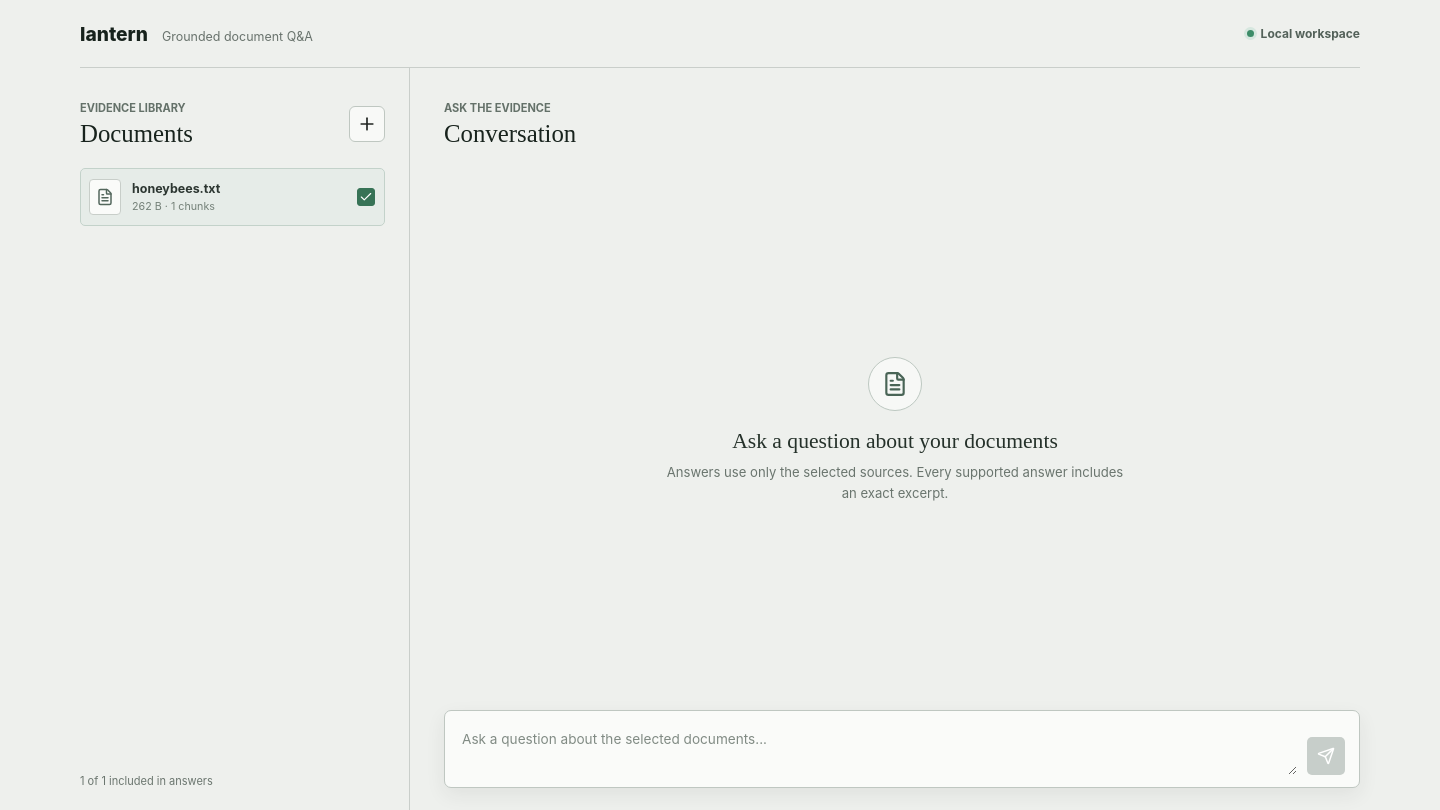
Test: grounded conversation › reveals the exact source excerpt when a citation is expanded
Expected: the text "honeybees.txt" is shown, [132,181,220,196]
Step 1. Type "How do bees communicate distance?" into the text box labelled "question" → (877, 750), box [457,724,1297,775]
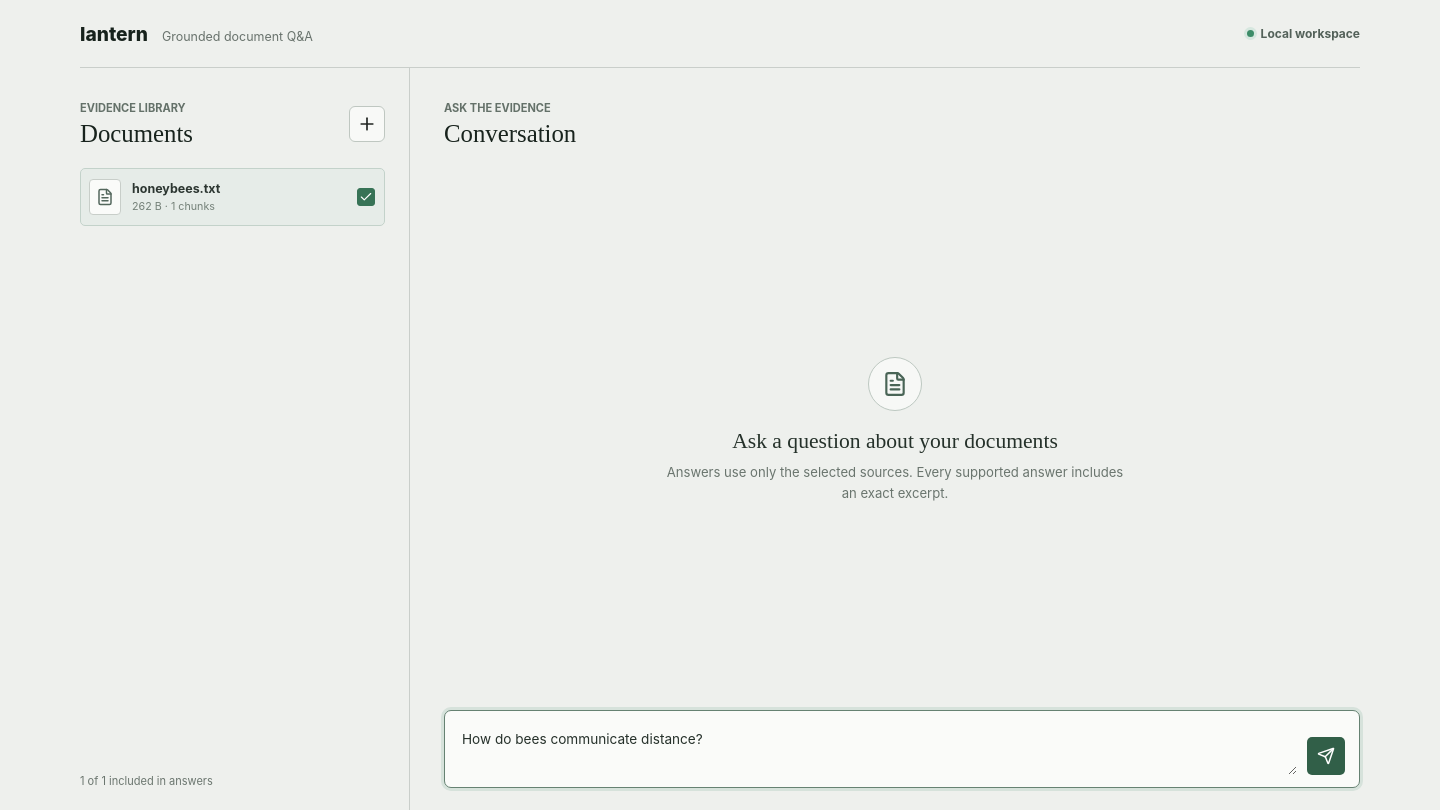
Step 2. Click the button named "Send question" → (1326, 756), box [1307,737,1345,775]
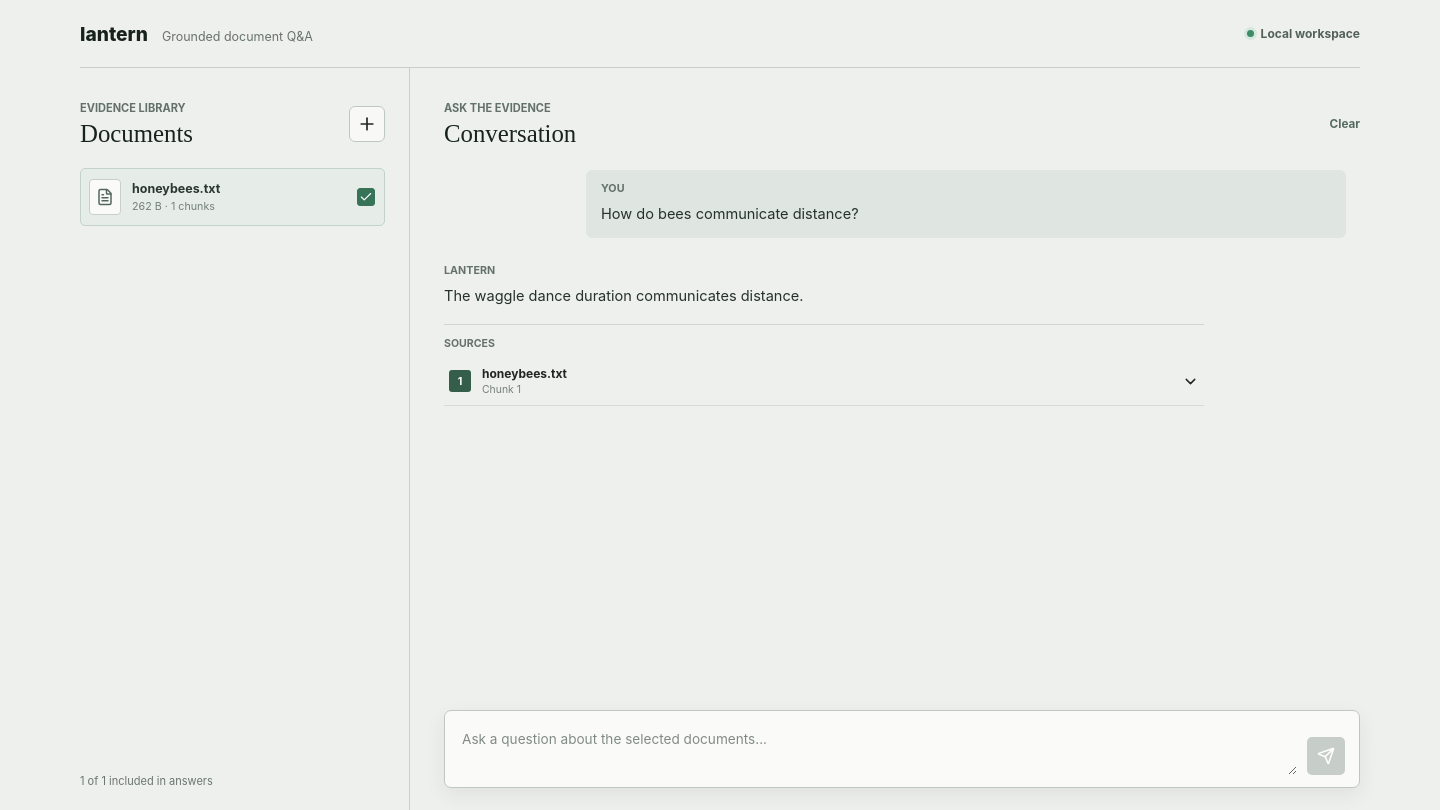
Expected: the text "The waggle dance duration communicates distance." is shown, [444,287,803,305]
Step 3. Click the button with aria-label "source 1: honeybees.txt" → (524, 374), box [444,357,1204,405]
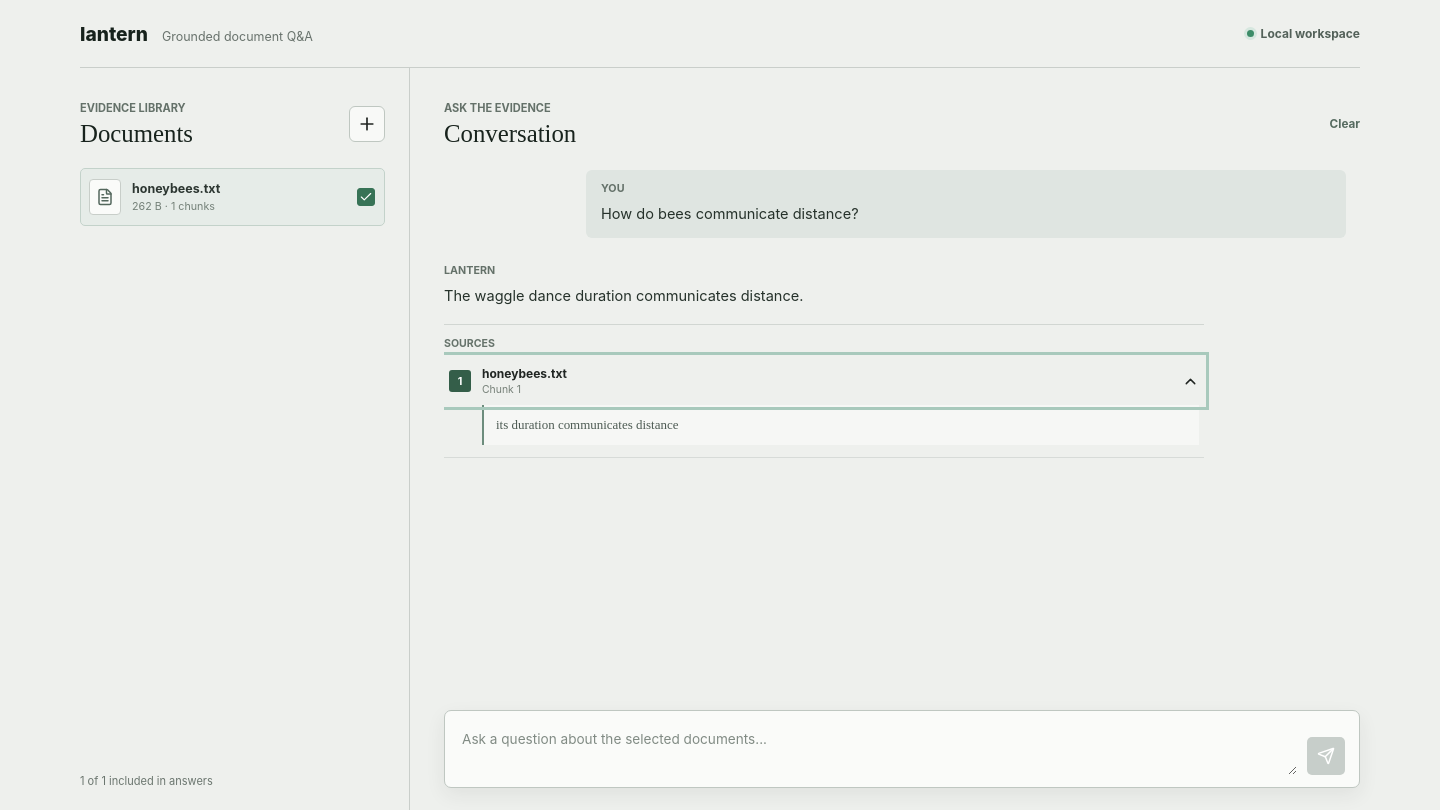
Expected: the text "its duration communicates distance" is shown, [482,405,1199,445]
